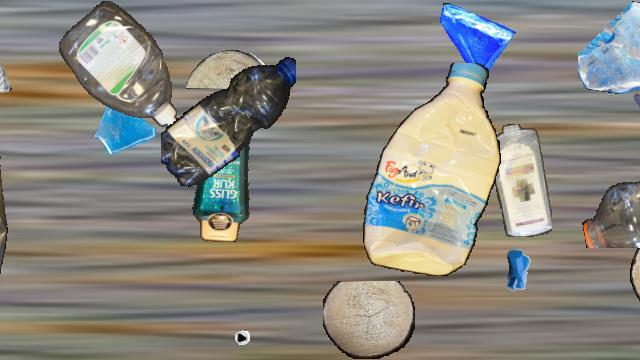glass: (434, 1, 516, 83), (578, 1, 640, 93), (93, 94, 159, 160), (0, 1, 17, 93), (629, 89, 640, 173)
metal: (488, 241, 550, 303), (197, 290, 257, 350)
plastic: (359, 63, 501, 275), (161, 50, 295, 190), (59, 1, 179, 131), (188, 99, 260, 241), (577, 108, 640, 248), (491, 124, 551, 236), (0, 151, 8, 295)
wood: (323, 281, 415, 359), (186, 50, 270, 88), (630, 232, 640, 318)
